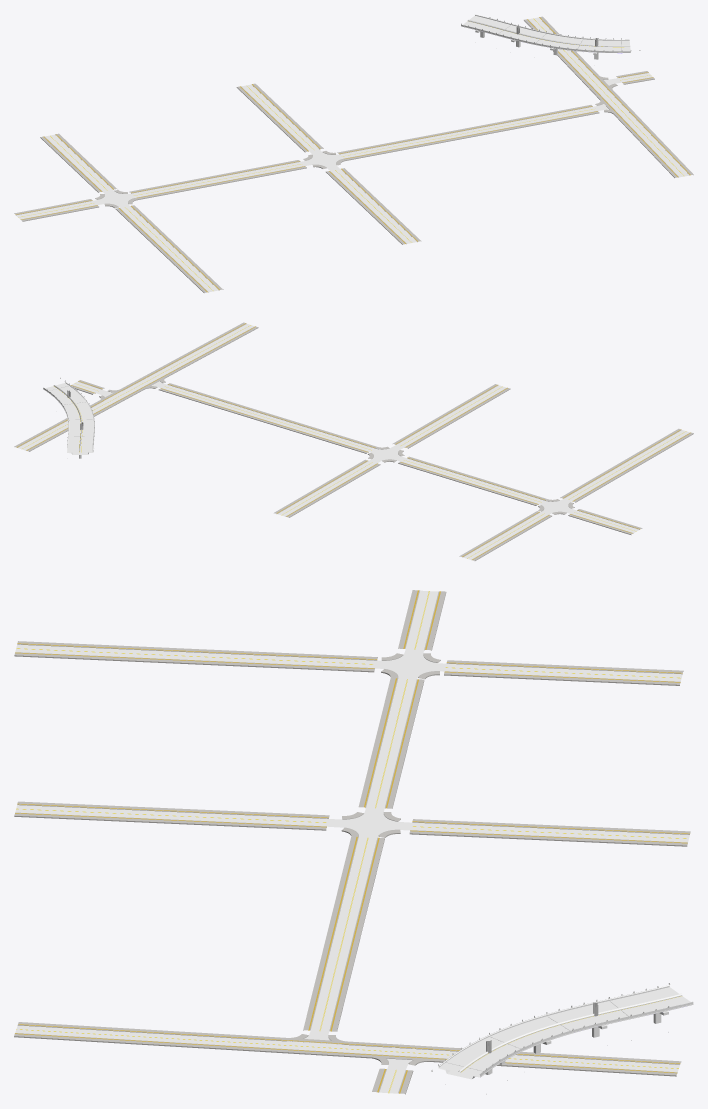
The model's file is roads_-3_3.gltf.
3 renders of one model, top to bottom at view 1: azimuth 30°, elevation 25°; view 2: azimuth 150°, elevation 25°; view 3: azimuth 270°, elevation 25°, orthographic. The views are drawn at different scales.
Parts seen in each view (by area): view 1: roads_-3_3_SH_wet_asphalt, roads_-3_3_SH_sidewalk, roads_-3_3_Road_Tactile_Strip, roads_-3_3_SH_concrete_pier, roads_-3_3_SH_kerb, roads_-3_3_SH_road_marking_white, roads_-3_3_SH_concrete_barrier, roads_-3_3_SH_road_marking_yellow; view 2: roads_-3_3_SH_wet_asphalt, roads_-3_3_SH_sidewalk, roads_-3_3_Road_Tactile_Strip, roads_-3_3_SH_kerb, roads_-3_3_SH_concrete_pier, roads_-3_3_SH_road_marking_yellow, roads_-3_3_SH_road_marking_white; view 3: roads_-3_3_SH_wet_asphalt, roads_-3_3_SH_sidewalk, roads_-3_3_Road_Tactile_Strip, roads_-3_3_SH_concrete_pier, roads_-3_3_SH_kerb, roads_-3_3_SH_road_marking_white, roads_-3_3_SH_road_marking_yellow, roads_-3_3_SH_concrete_barrier.
Boxes of the visible parts, x1=… form: roads_-3_3_SH_wet_asphalt: x1=16, y1=16, x2=689, y2=292; roads_-3_3_SH_sidewalk: x1=14, y1=16, x2=693, y2=292; roads_-3_3_Road_Tactile_Strip: x1=15, y1=17, x2=690, y2=292; roads_-3_3_SH_concrete_pier: x1=461, y1=15, x2=630, y2=59; roads_-3_3_SH_kerb: x1=16, y1=18, x2=689, y2=292; roads_-3_3_SH_road_marking_white: x1=17, y1=17, x2=688, y2=291; roads_-3_3_SH_concrete_barrier: x1=461, y1=14, x2=630, y2=52; roads_-3_3_SH_road_marking_yellow: x1=18, y1=18, x2=683, y2=290; roads_-3_3_SH_wet_asphalt: x1=18, y1=324, x2=689, y2=559; roads_-3_3_SH_sidewalk: x1=14, y1=322, x2=693, y2=560; roads_-3_3_Road_Tactile_Strip: x1=16, y1=323, x2=690, y2=559; roads_-3_3_SH_kerb: x1=17, y1=323, x2=689, y2=559; roads_-3_3_SH_concrete_pier: x1=43, y1=383, x2=94, y2=458; roads_-3_3_SH_road_marking_yellow: x1=22, y1=325, x2=686, y2=558; roads_-3_3_SH_road_marking_white: x1=22, y1=324, x2=683, y2=559; roads_-3_3_SH_wet_asphalt: x1=15, y1=590, x2=690, y2=1093; roads_-3_3_SH_sidewalk: x1=14, y1=590, x2=690, y2=1094; roads_-3_3_Road_Tactile_Strip: x1=15, y1=590, x2=689, y2=1093; roads_-3_3_SH_concrete_pier: x1=438, y1=987, x2=693, y2=1079; roads_-3_3_SH_kerb: x1=15, y1=590, x2=689, y2=1093; roads_-3_3_SH_road_marking_white: x1=17, y1=590, x2=689, y2=1093; roads_-3_3_SH_road_marking_yellow: x1=16, y1=591, x2=686, y2=1093; roads_-3_3_SH_concrete_barrier: x1=439, y1=985, x2=693, y2=1076.
Size of what is drawn, in the model's own units: 516 by 16.34 by 292.
